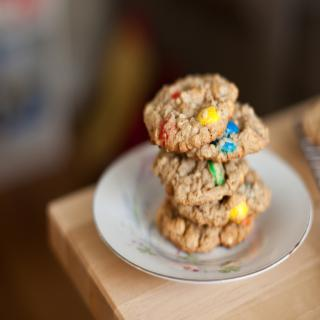Cookie: (141, 73, 271, 252), (142, 70, 238, 152), (177, 165, 272, 228), (153, 197, 254, 254), (148, 151, 247, 206), (187, 104, 270, 162)
